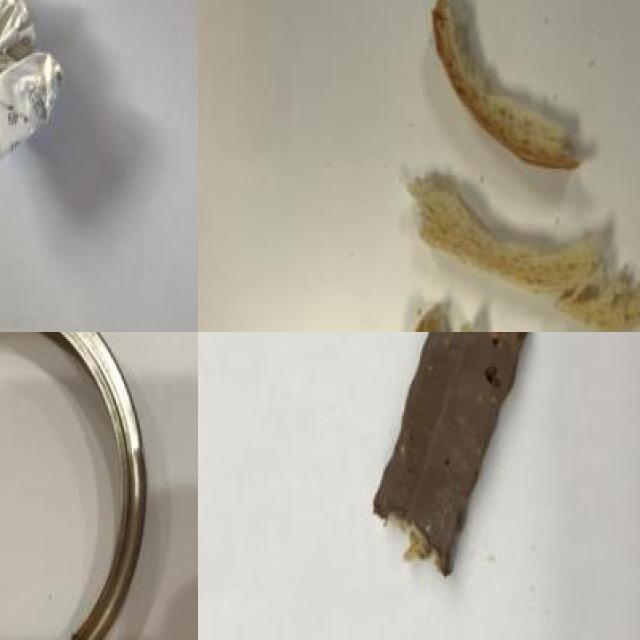compost: (338, 0, 640, 332), (339, 332, 561, 595)
paper: (0, 0, 86, 168)
plastic: (0, 332, 159, 640)
